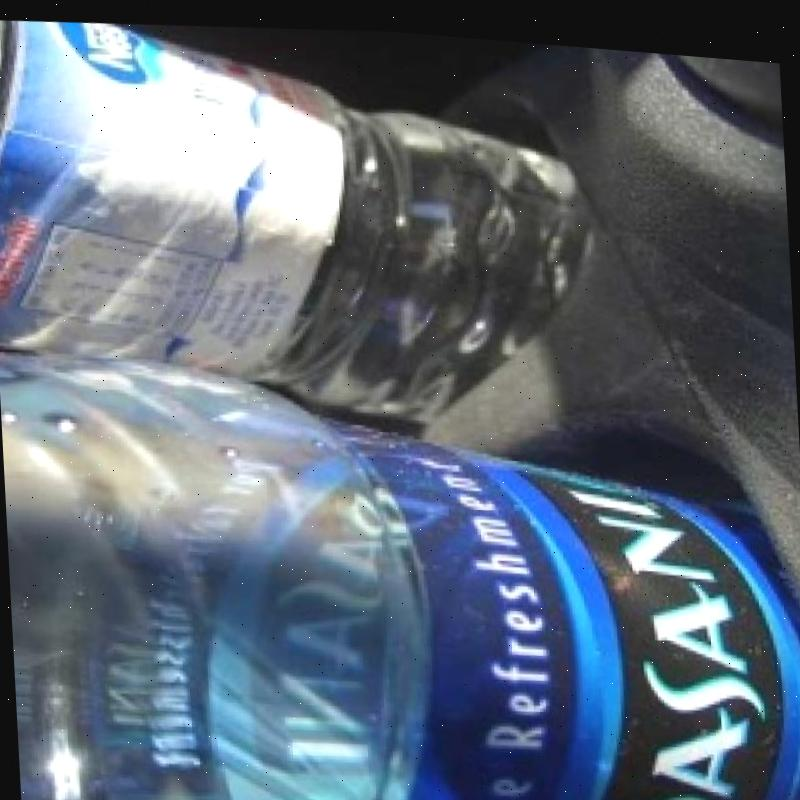botella: (0, 307, 800, 800), (0, 0, 608, 451)
